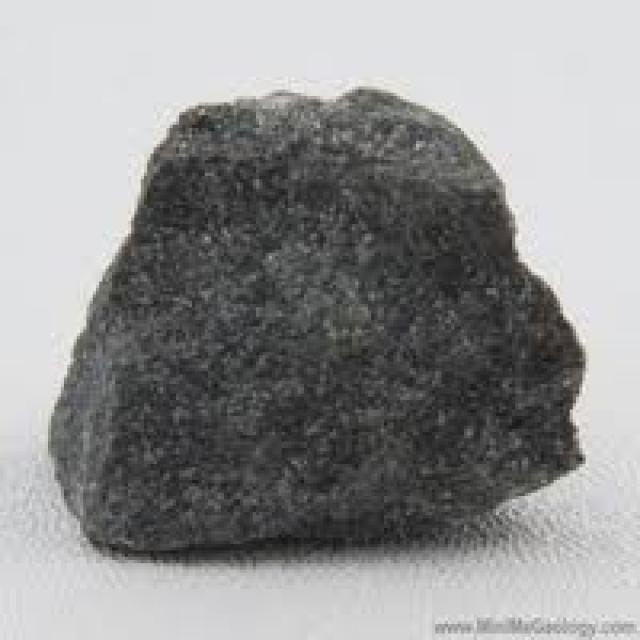Metamorphic: (26, 96, 598, 547)
